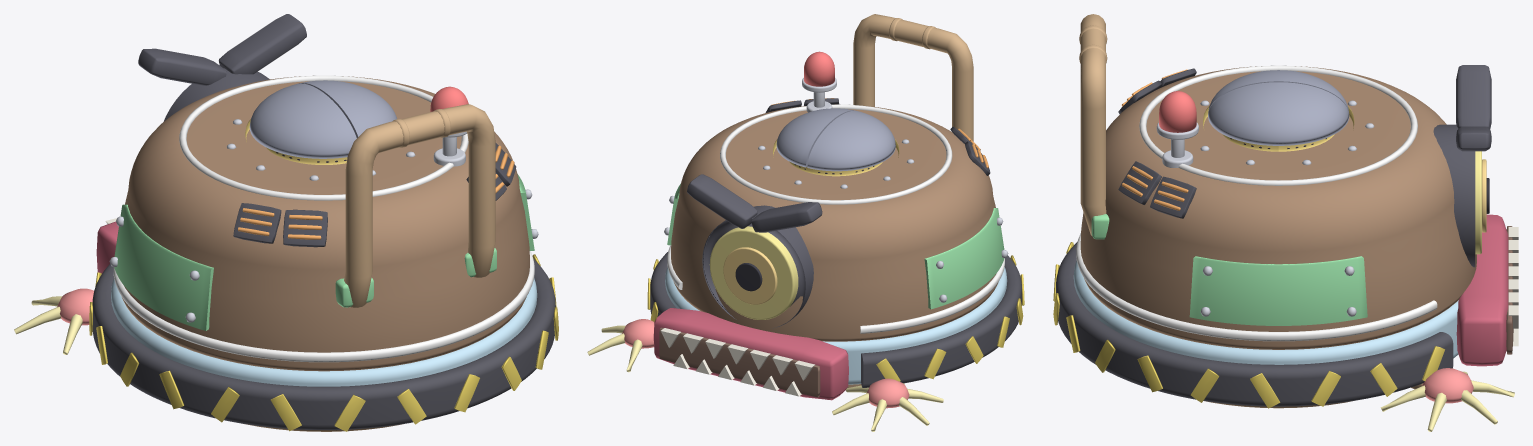
The model's file is BigBadVacuumBody.glb.
3 renders of one model, left to right at view 1: azimuth 30°, elevation 25°; view 2: azimuth 150°, elevation 25°; view 3: azimuth 270°, elevation 25°, orthographic. The views are drawn at different scales.
Visible parts, largest first — view 1: Hull, Bumper, Handle, Stripe, Base, Plate, FlapL, Hazard, Vent, BrowR, FlapR, BrowL (+9 smaller); view 2: Hull, Bumper, Handle, Mouth, Plate, Stripe, Eye, FlapL, Throat, Base, Teeth, EyeRing (+15 smaller); view 3: Hull, Bumper, Plate, Stripe, FlapR, Base, Mouth, Handle, Hazard, EyeRing, Vent, BrowL (+12 smaller).
Boxes of the visible parts, x1,y1,x2,y2 form: Hull: [122, 76, 529, 371]; Bumper: [92, 259, 555, 429]; Handle: [344, 104, 495, 307]; Stripe: [113, 75, 534, 362]; Base: [111, 278, 537, 386]; Plate: [114, 174, 534, 330]; FlapL: [249, 83, 356, 158]; Hazard: [89, 254, 558, 431]; Vent: [233, 143, 516, 247]; BrowR: [218, 14, 306, 74]; FlapR: [299, 80, 396, 137]; BrowL: [138, 48, 226, 85]; Hull: [671, 104, 998, 341]; Bumper: [650, 252, 1021, 387]; Handle: [853, 14, 973, 141]; Mouth: [653, 308, 848, 400]; Plate: [667, 183, 1004, 309]; Stripe: [667, 104, 1004, 333]; Eye: [709, 226, 798, 319]; FlapL: [807, 110, 895, 171]; Throat: [659, 327, 820, 397]; Base: [665, 267, 1007, 384]; Teeth: [661, 328, 815, 396]; EyeRing: [702, 205, 813, 328]; Hull: [1080, 66, 1476, 349]; Bumper: [1056, 242, 1453, 406]; Plate: [1091, 214, 1367, 325]; Stripe: [1076, 65, 1437, 341]; FlapR: [1208, 82, 1349, 145]; Base: [1073, 260, 1458, 364]; Mouth: [1456, 214, 1508, 366]; Handle: [1079, 14, 1107, 235]; Hazard: [1053, 242, 1444, 408]; EyeRing: [1433, 124, 1475, 267]; Vent: [1118, 68, 1196, 218]; BrowL: [1456, 65, 1491, 129].
Bounding box in the file's own units: 29.05 × 20.26 × 28.6.
